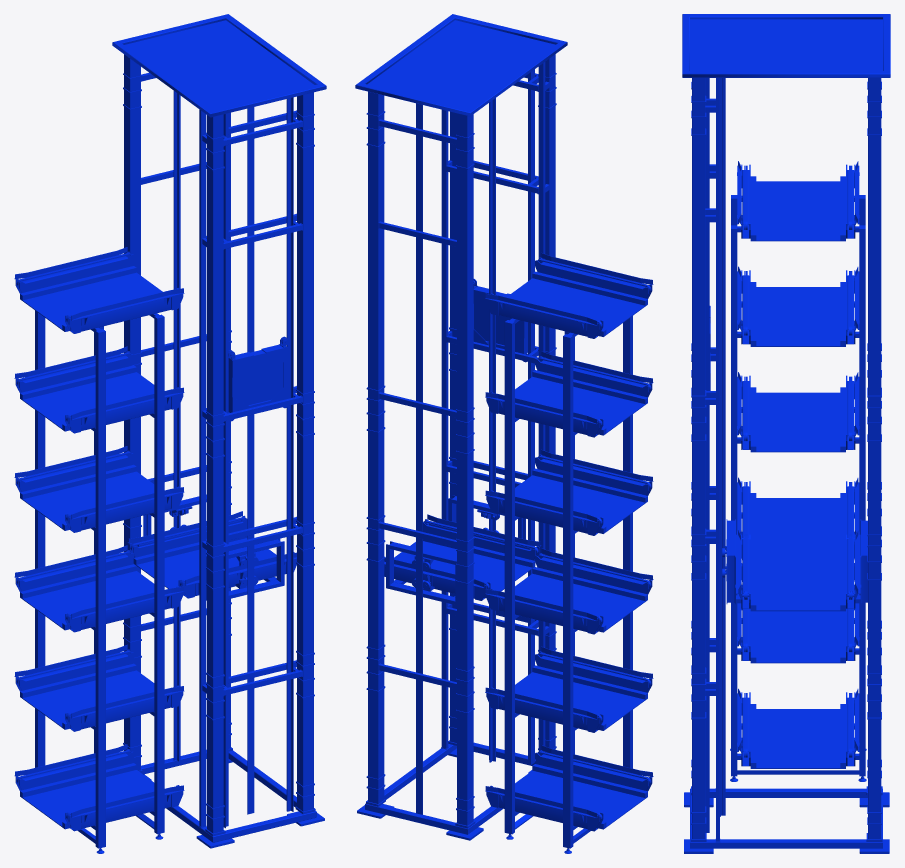
Rendered from TSJ.FBX.
3 renders of one model, left to right at view 1: azimuth 30°, elevation 25°; view 2: azimuth 150°, elevation 25°; view 3: azimuth 270°, elevation 25°, orthographic. The views are drawn at different scales.
Parts seen in each view (by area): view 1: TSJ, TSJ-T; view 2: TSJ, TSJ-T; view 3: TSJ, TSJ-T.
Part boxes in pixels (<box>): TSJ: <box>14,14,326,853</box>; TSJ-T: <box>127,494,296,600</box>; TSJ: <box>355,14,653,853</box>; TSJ-T: <box>384,495,541,605</box>; TSJ: <box>682,14,890,853</box>; TSJ-T: <box>722,519,867,611</box>.
Size of the model in its own units: 3025 by 9246 by 2234.
